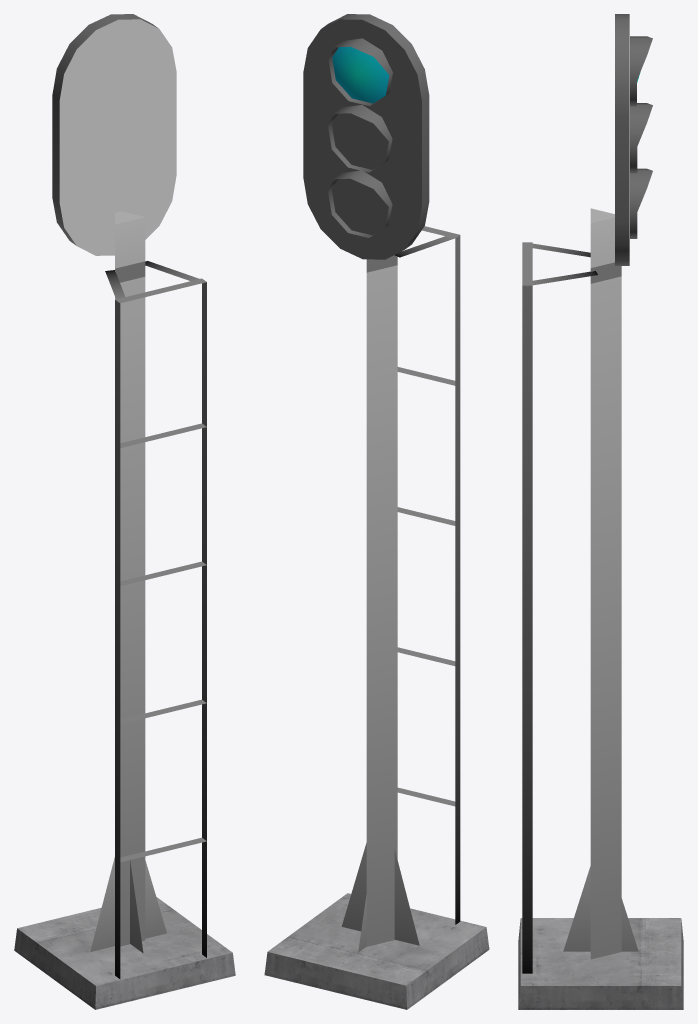
File: SIGNAL_3_TOP.glb
The picture shows the model from 3 angles, left to right: view 1: azimuth 30°, elevation 25°; view 2: azimuth 150°, elevation 25°; view 3: azimuth 270°, elevation 25°; orthographic projection.
Parts seen in each view (by area): view 1: body1; view 2: body1; view 3: body1.
Part boxes in pixels (x1,y1,x2,y2): body1: (14, 14, 235, 1009); body1: (264, 14, 489, 1009); body1: (518, 14, 683, 1009).
Bounding box in the file's own units: 1.6 × 10.19 × 1.6.
3 materials, 3 textured.
